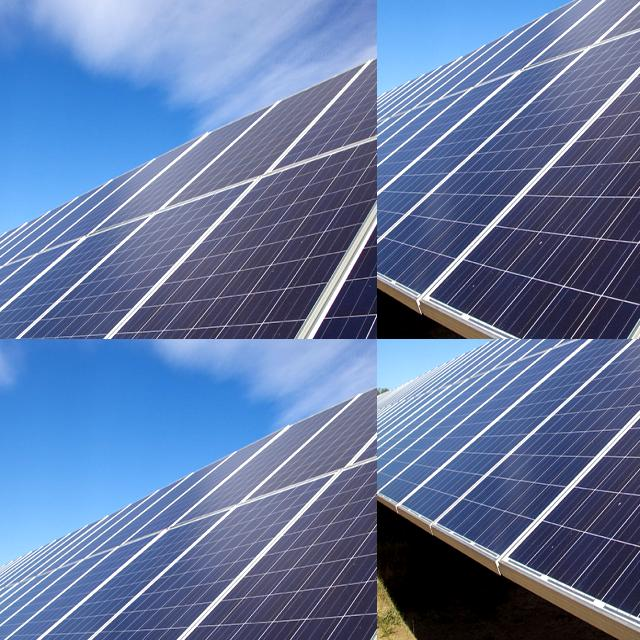crack: (535, 0, 640, 280), (520, 376, 628, 504)
